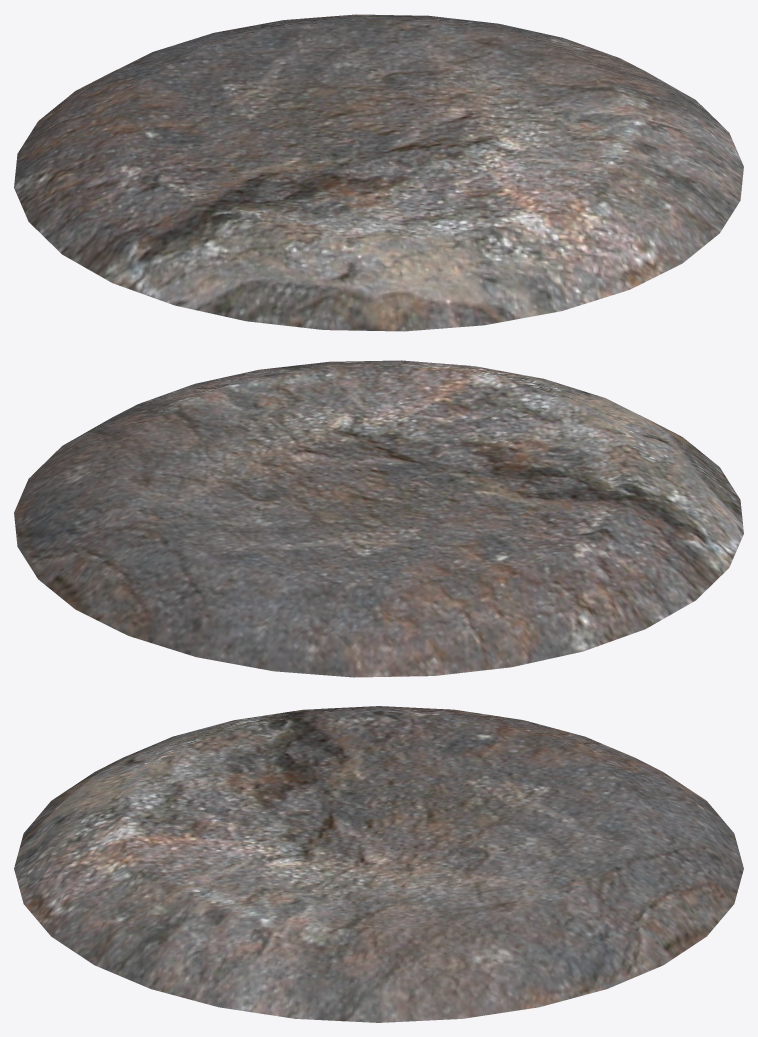
File: SM_Sun_Gate_Stone.fbx
The picture shows the model from 3 angles, top to bottom: view 1: azimuth 30°, elevation 25°; view 2: azimuth 150°, elevation 25°; view 3: azimuth 270°, elevation 25°; orthographic projection.
Visible parts, largest first — view 1: SM_Sun_Gate_Stone; view 2: SM_Sun_Gate_Stone; view 3: SM_Sun_Gate_Stone.
Part boxes in pixels (x1=…): SM_Sun_Gate_Stone: x1=14, y1=14, x2=743, y2=331; SM_Sun_Gate_Stone: x1=14, y1=360, x2=743, y2=677; SM_Sun_Gate_Stone: x1=14, y1=706, x2=743, y2=1022.
Bounding box in the file's own units: 119 × 8.41 × 119.
